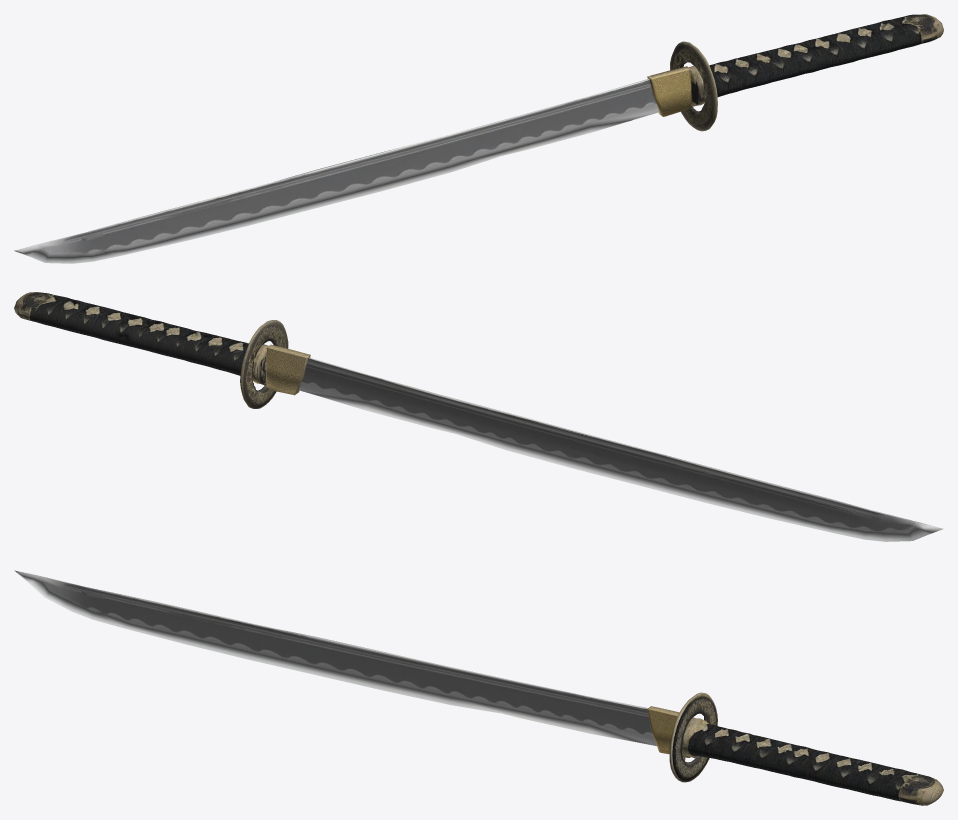
File: arma_katana.glb
3 renders of one model, top to bottom at view 1: azimuth 30°, elevation 25°; view 2: azimuth 150°, elevation 25°; view 3: azimuth 330°, elevation 25°, orthographic.
Bounding box in the file's own units: 0.9575 × 0.0805 × 0.0835.
1 material, 1 textured.
